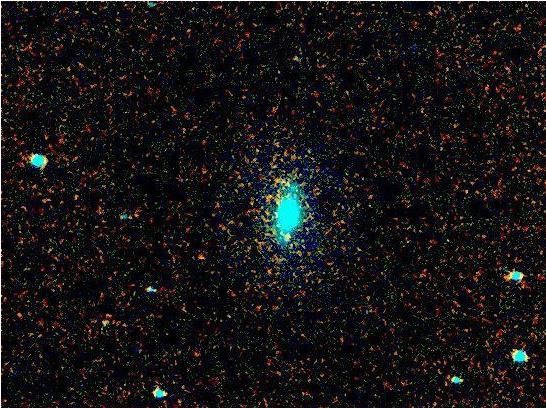star: (269, 227, 299, 257)
